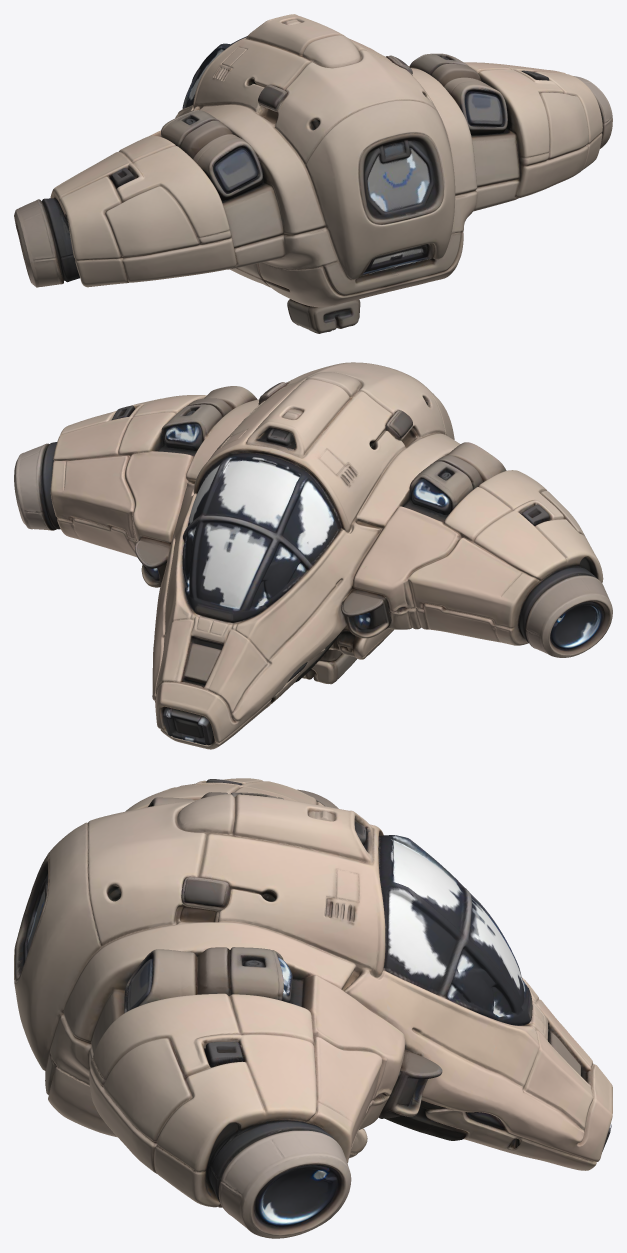
Rendered from calm.glb.
The picture shows the model from 3 angles, top to bottom: view 1: azimuth 30°, elevation 25°; view 2: azimuth 150°, elevation 25°; view 3: azimuth 270°, elevation 25°; orthographic projection. The views are drawn at different scales.
Visible parts, largest first — view 1: tripo_node_2da81162-60c8-4311-b769-af31cb0a10d1; view 2: tripo_node_2da81162-60c8-4311-b769-af31cb0a10d1; view 3: tripo_node_2da81162-60c8-4311-b769-af31cb0a10d1.
Boxes of the visible parts, x1,y1,x2,y2 form: tripo_node_2da81162-60c8-4311-b769-af31cb0a10d1: [14, 14, 612, 333]; tripo_node_2da81162-60c8-4311-b769-af31cb0a10d1: [14, 362, 612, 749]; tripo_node_2da81162-60c8-4311-b769-af31cb0a10d1: [14, 778, 612, 1238].
Size of the model in its own units: 0.98 by 0.4675 by 0.6521.
1 material, 1 textured.
